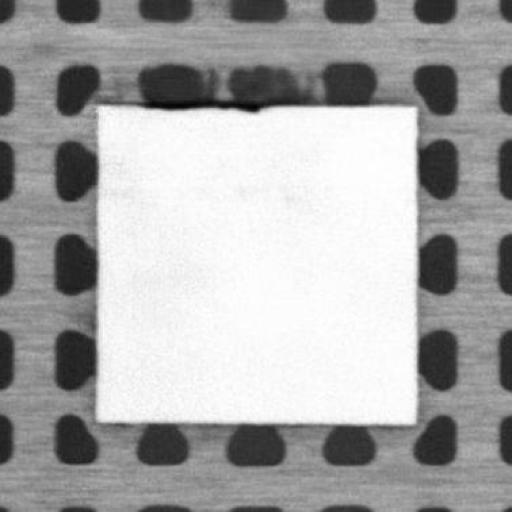DIE_BROKEN: (138, 97, 266, 112)
